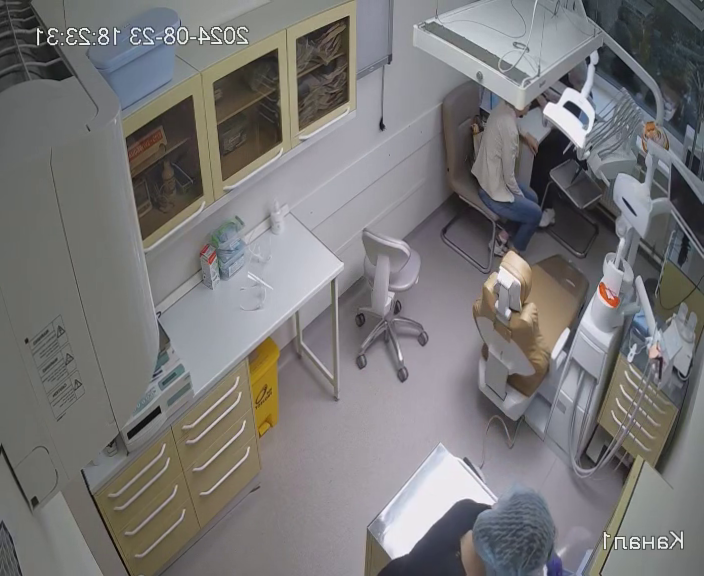Empty: (476, 248, 590, 420)
